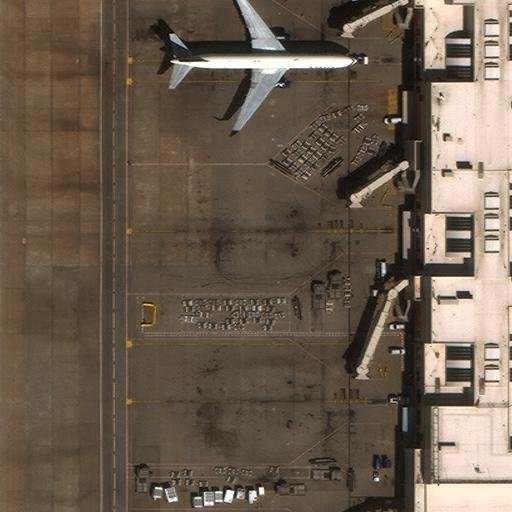Large Civil Transport: (170, 0, 357, 132)
